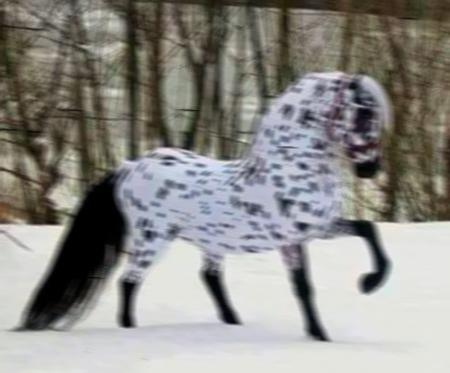horse: (7, 69, 393, 341)
